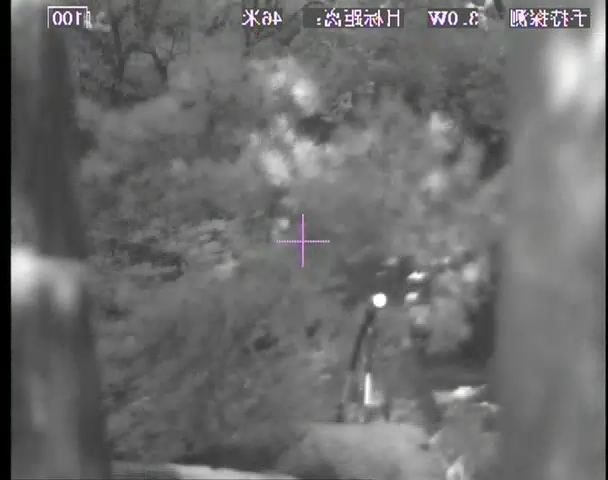my: (370, 291, 387, 309)
